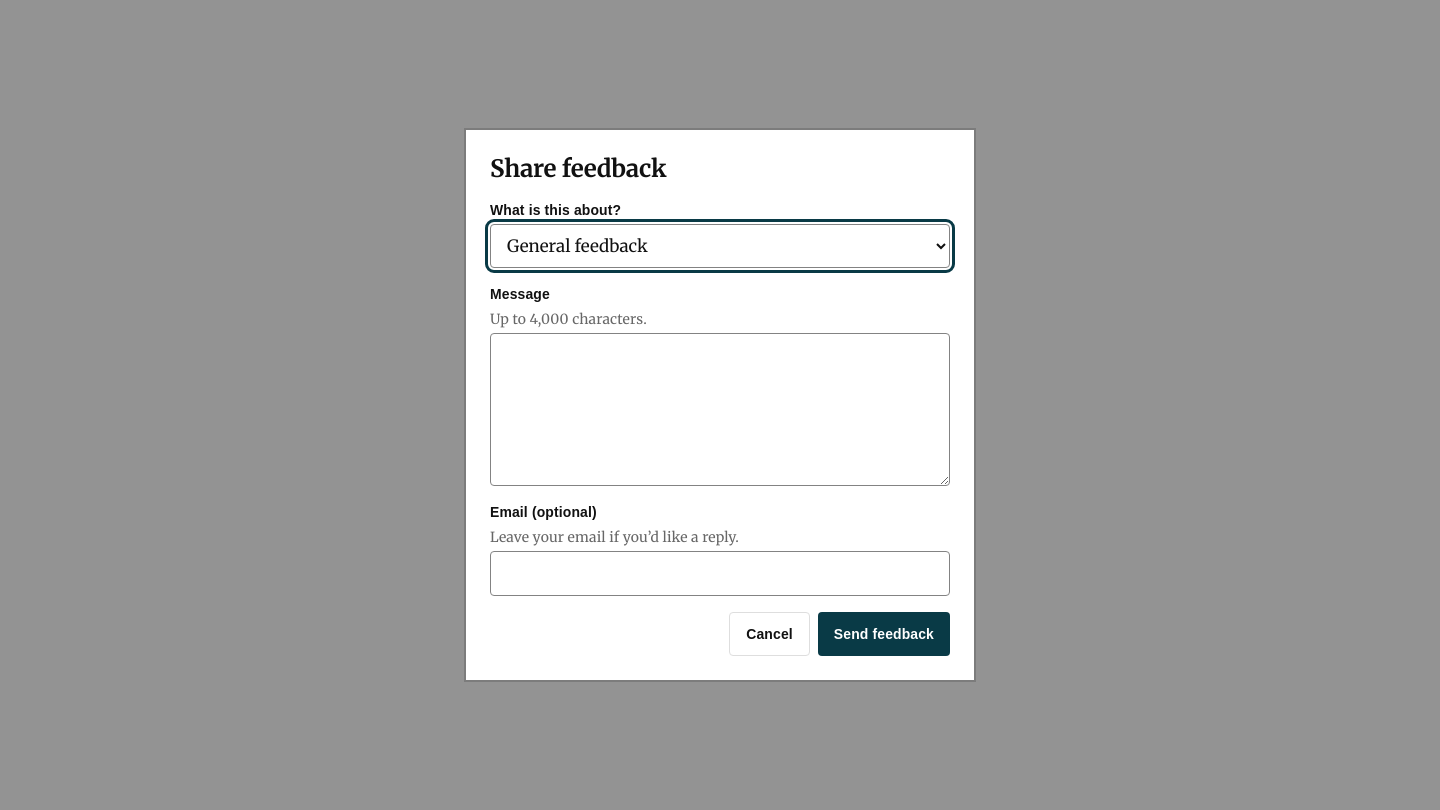
Test: FeedbackModal › shows the server error inline instead of throwing
Type "Hello" into the text box labelled "Message" at (720, 410), box [490,333,950,486]
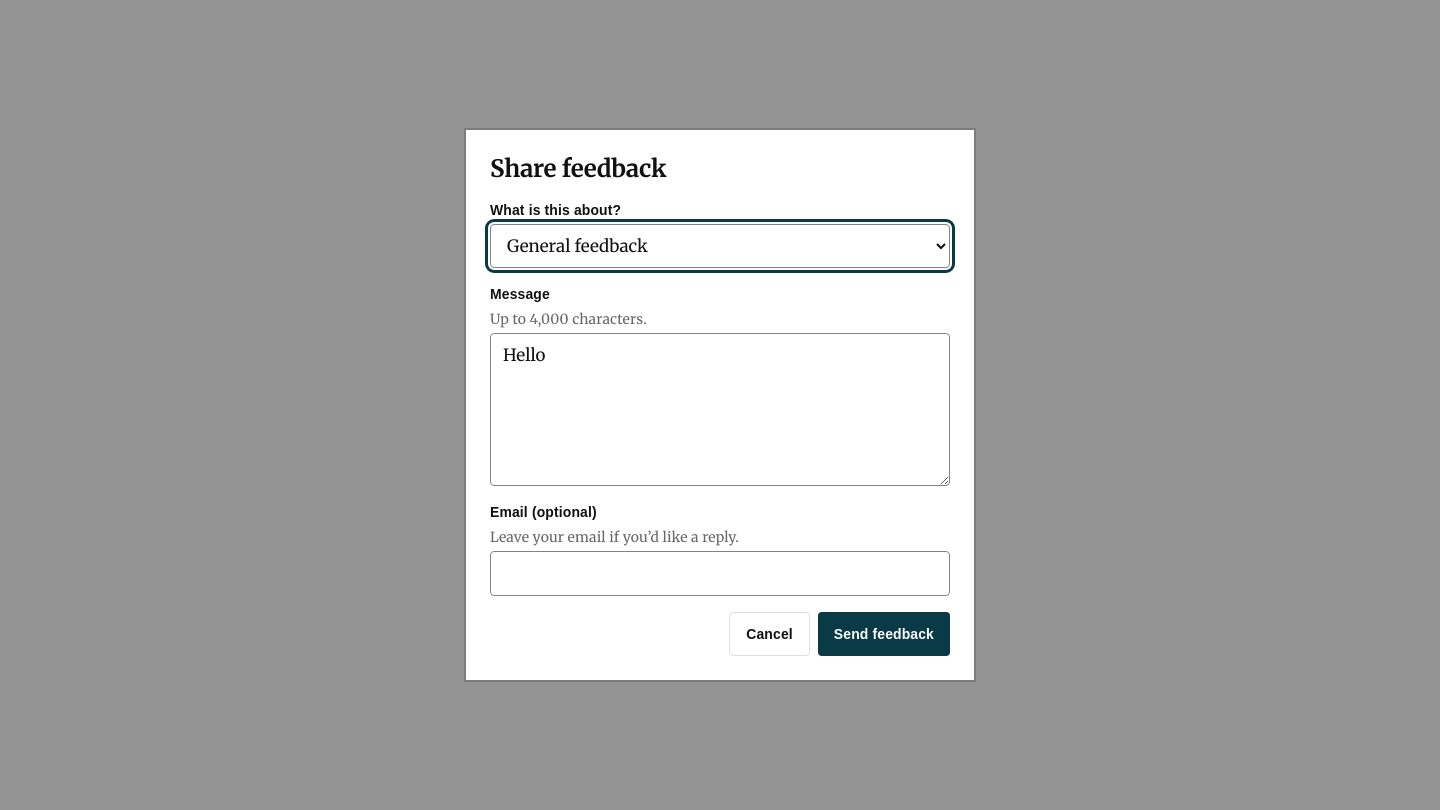
Click the button "Send feedback" at (884, 634), box [818,612,950,656]
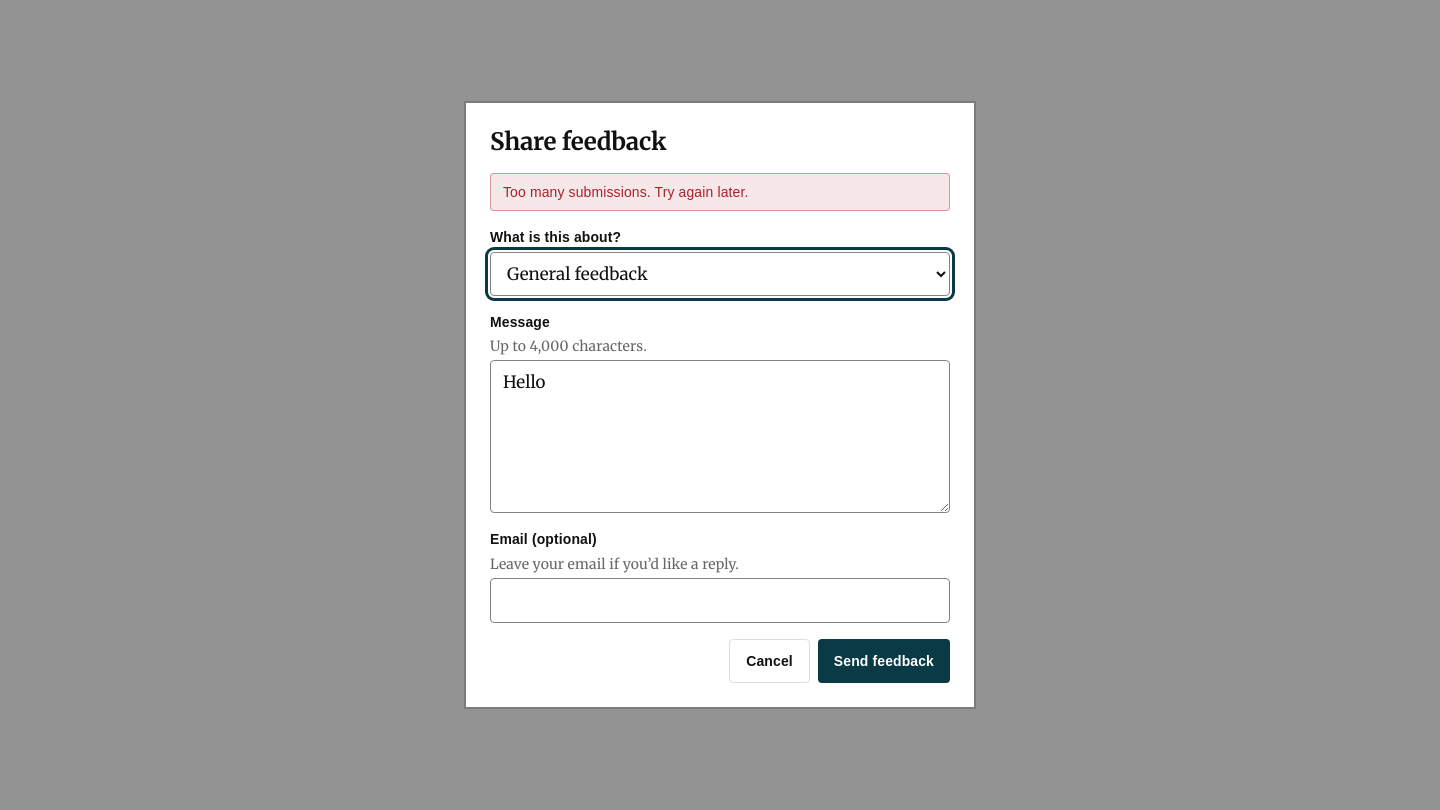
Now the message reads "Too many submissions. Try again later.", box [503,184,748,200]
